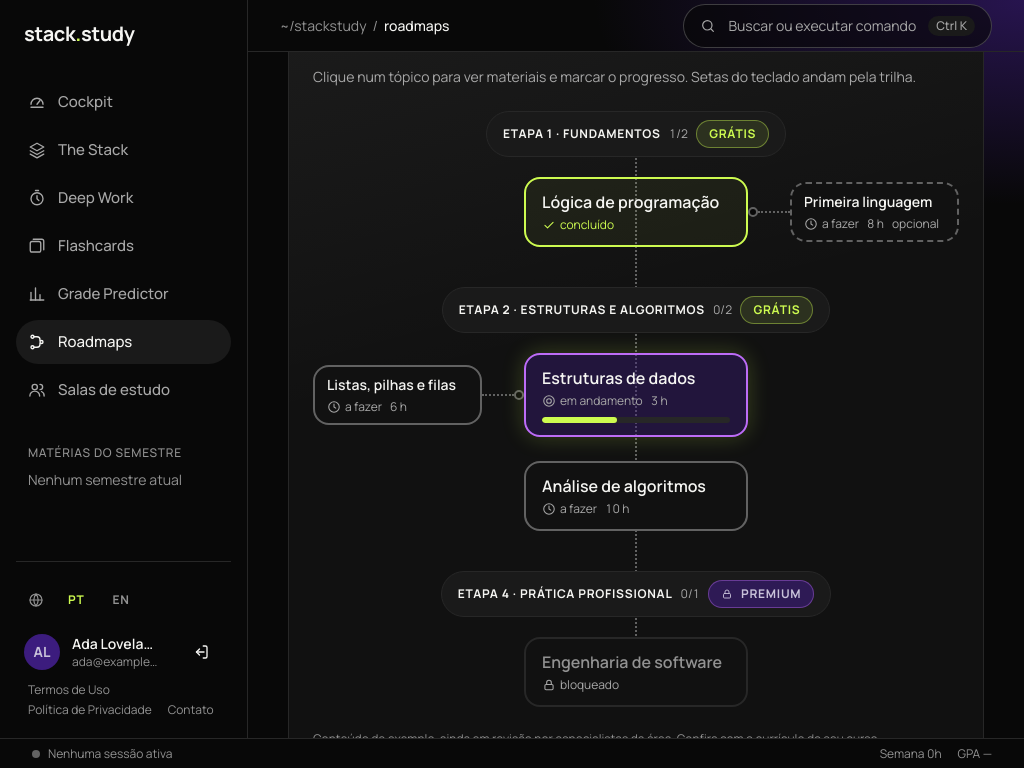
Test: Roadmaps › abre o painel do nó e grava o status
Later steps or results of the test are not shown.
(page scrolled)
Click the button "Estruturas de dados em andamento 3 h" at (636, 395), box x1=524 y1=353 x2=748 y2=437
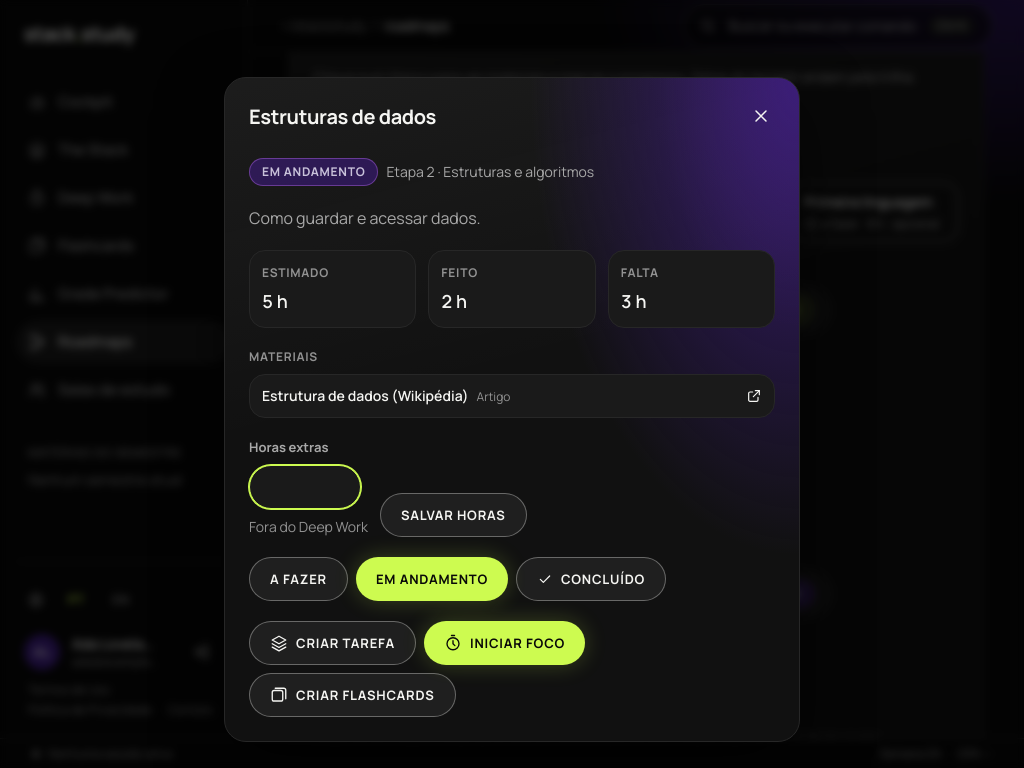
expect the text "Como guardar e acessar dados." is shown: met, box x1=249 y1=207 x2=481 y2=229
